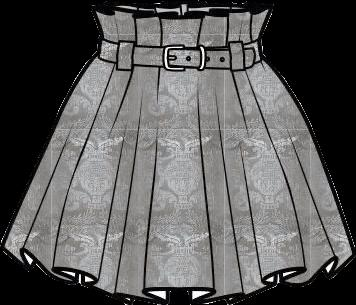Hemline: (0, 245, 355, 304)
Waistline: (92, 3, 272, 22)
